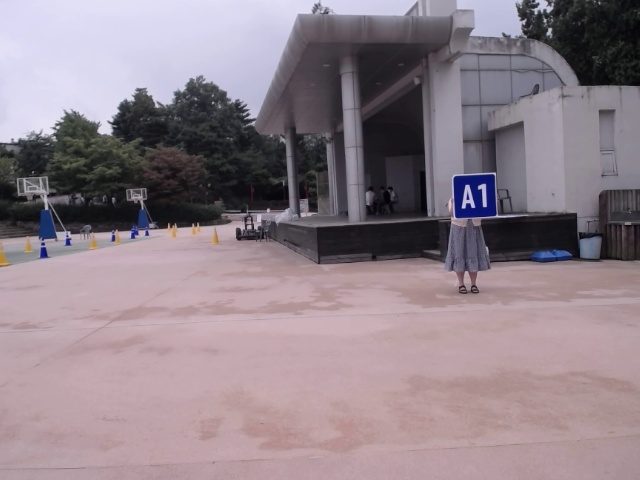delivery_a1: (453, 173, 497, 219)
